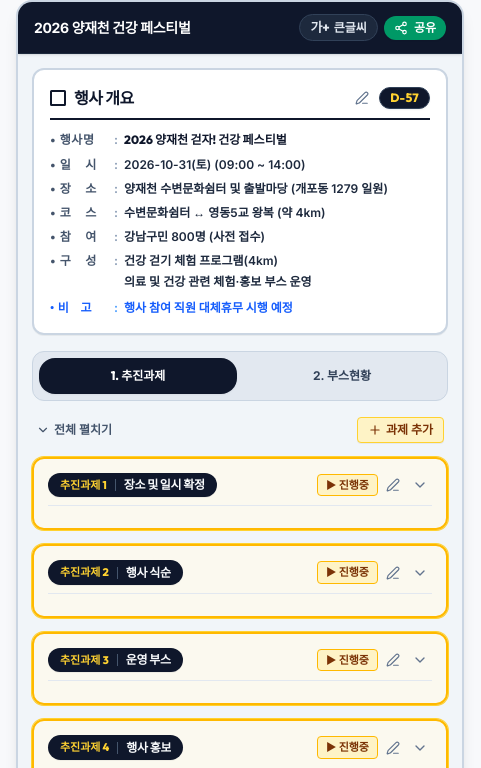
Test: Yangjae Festival Real-time Multi-Device Sync & UX Verification › R8. Cooperation Departments Blank Fallback Guard › leaves cooperationDepts blank when empty and never displays "보건소 자체 추진"
Step 1. Click the button "추진과제 2 행사 식순" → (180, 573), box [48,560,311,585]
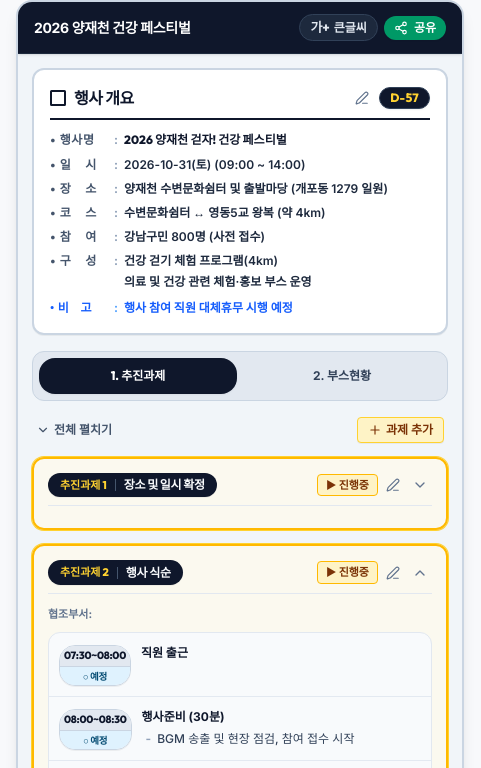
Check: the text "협조부서:" is shown, box [48,606,92,622]
